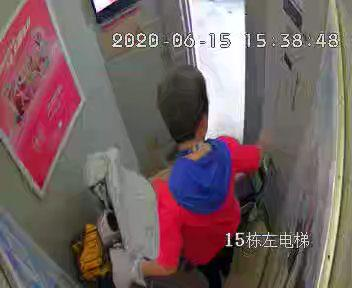Electric-bicycle: (69, 148, 154, 287)
